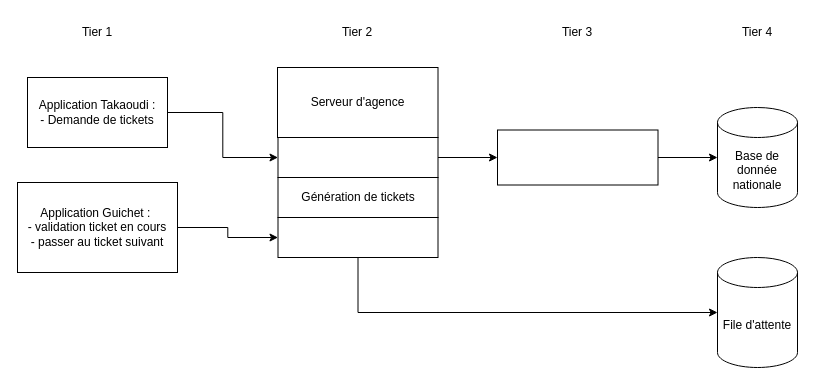
This 815x385 diagram has some shape labels left out. The shapes that lost their labels are listed below. From the top down, each one's centre as x and y in pixels, then its label:
At (357,157): "Authentification des assurés".
At (577,157): "Serveur CNR".
At (357,237): "Gestion des tickets".
